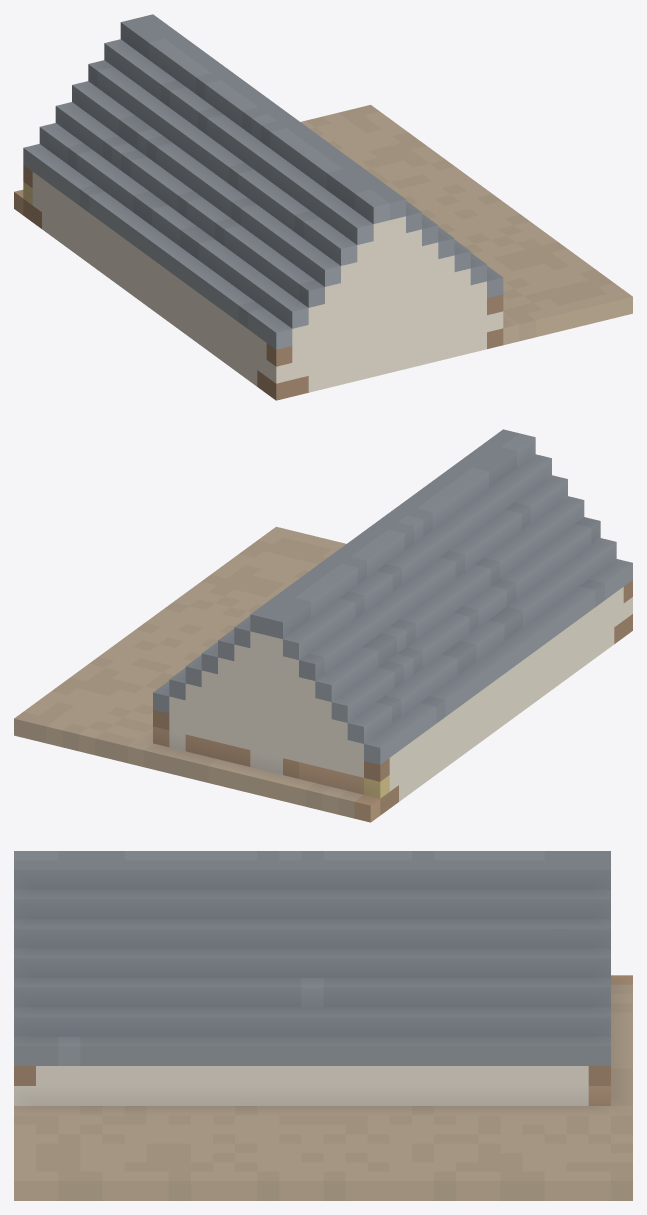
File: theatre.lite.glb
3 renders of one model, top to bottom at view 1: azimuth 30°, elevation 25°; view 2: azimuth 150°, elevation 25°; view 3: azimuth 270°, elevation 25°, orthographic. The views are drawn at different scales.
Visible parts, largest first — view 1: theatre; view 2: theatre; view 3: theatre.
Boxes of the visible parts, left/top/right/bottom form: theatre: left=14, top=14, right=632, bottom=400; theatre: left=14, top=429, right=632, bottom=822; theatre: left=14, top=851, right=632, bottom=1200.
Size of the model in its own units: 11 by 5 by 14.
